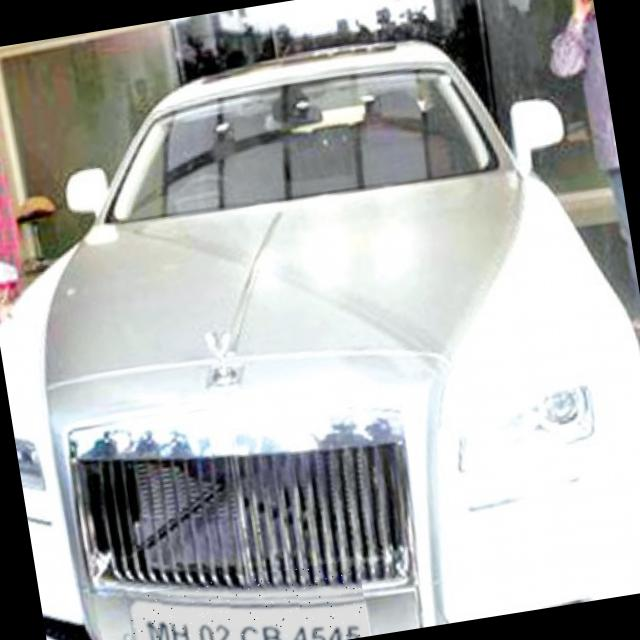Plate: (127, 560, 371, 640)
